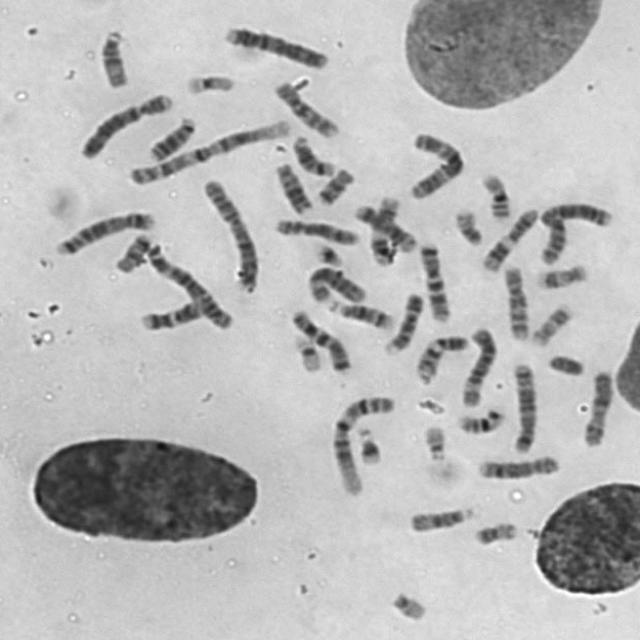A1: (121, 112, 294, 187), (322, 388, 398, 497)
A2: (196, 172, 261, 294), (530, 194, 616, 266)
A3: (138, 236, 236, 330), (400, 124, 468, 201)
B4: (73, 86, 175, 160), (217, 18, 331, 71)
B5: (49, 204, 158, 257), (504, 355, 540, 454)
C10: (266, 74, 341, 139), (496, 258, 532, 342)
C11: (474, 200, 542, 273), (362, 191, 411, 269)
C12: (347, 199, 422, 252), (133, 294, 205, 332)
C6: (454, 319, 499, 408), (300, 260, 370, 306)
C7: (284, 302, 354, 375), (412, 236, 452, 323)
C8: (268, 211, 362, 247), (470, 448, 562, 481)
C9: (409, 328, 470, 385), (378, 286, 425, 356)
D13: (142, 110, 199, 162), (268, 156, 314, 214)
D14: (285, 128, 338, 177), (324, 294, 396, 330)
D15: (92, 22, 131, 89), (403, 500, 475, 534)
E16: (474, 167, 514, 221), (449, 400, 507, 436)
E17: (524, 298, 574, 347), (528, 257, 591, 291)
E18: (109, 227, 154, 274), (310, 161, 356, 206)
F19: (178, 66, 238, 97), (286, 328, 324, 374)
F20: (467, 514, 521, 547), (448, 202, 486, 246)
G21: (349, 420, 384, 466), (307, 237, 346, 268)
G22: (384, 584, 429, 622), (416, 417, 448, 462)
X: (576, 364, 616, 448)
Y: (540, 348, 586, 378)
